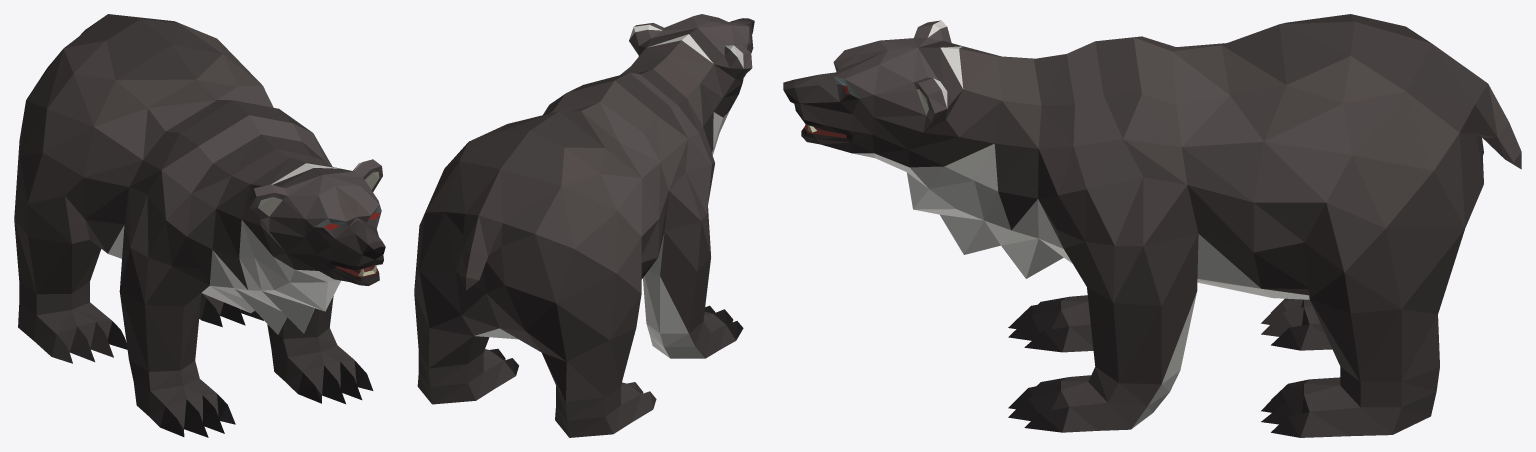
The model's file is artio.gltf.
3 renders of one model, left to right at view 1: azimuth 30°, elevation 25°; view 2: azimuth 150°, elevation 25°; view 3: azimuth 270°, elevation 25°, orthographic. The views are drawn at different scales.
Bounding box in the file's own units: 464 × 555 × 1058.
1 material, 1 textured.
